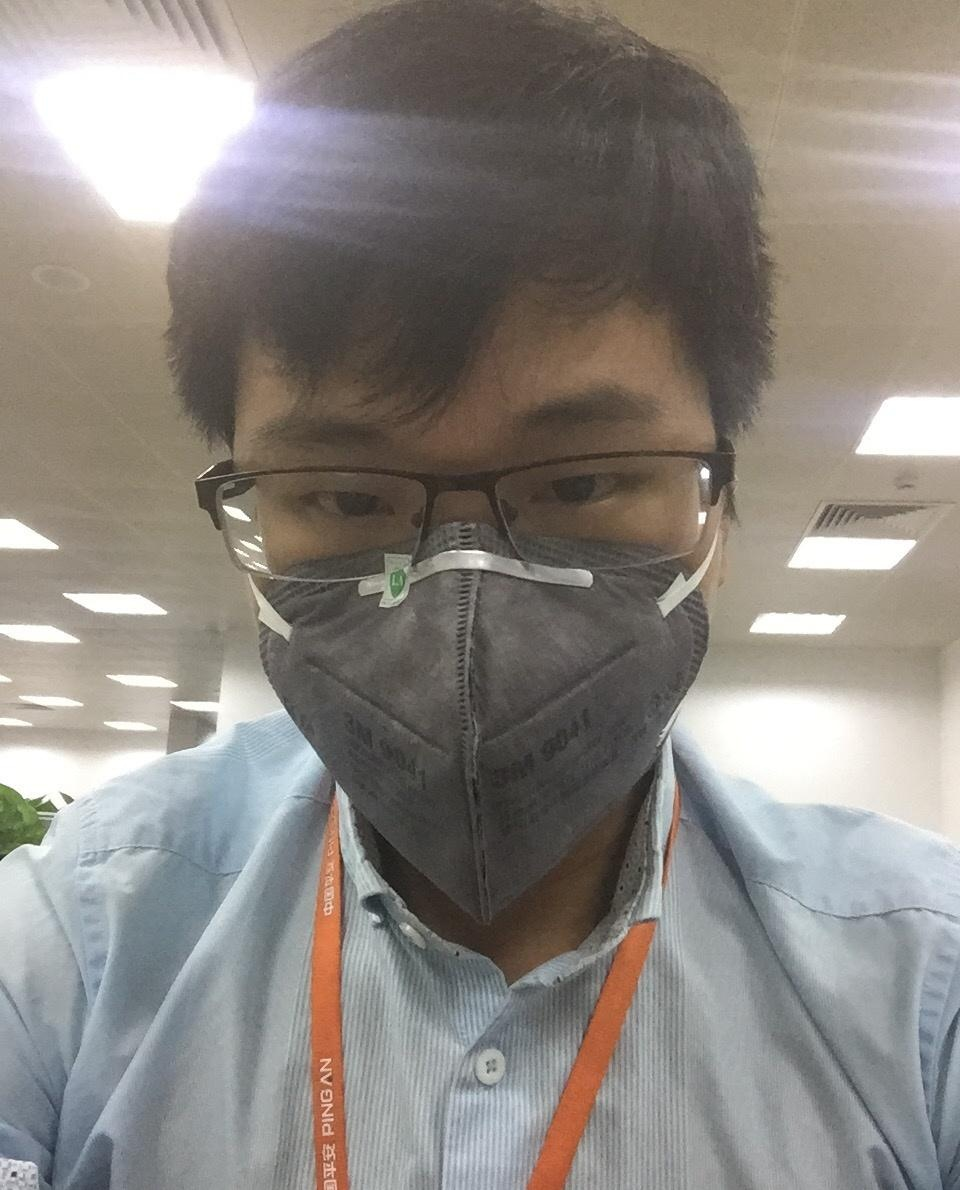Mask: (218, 390, 750, 922)
